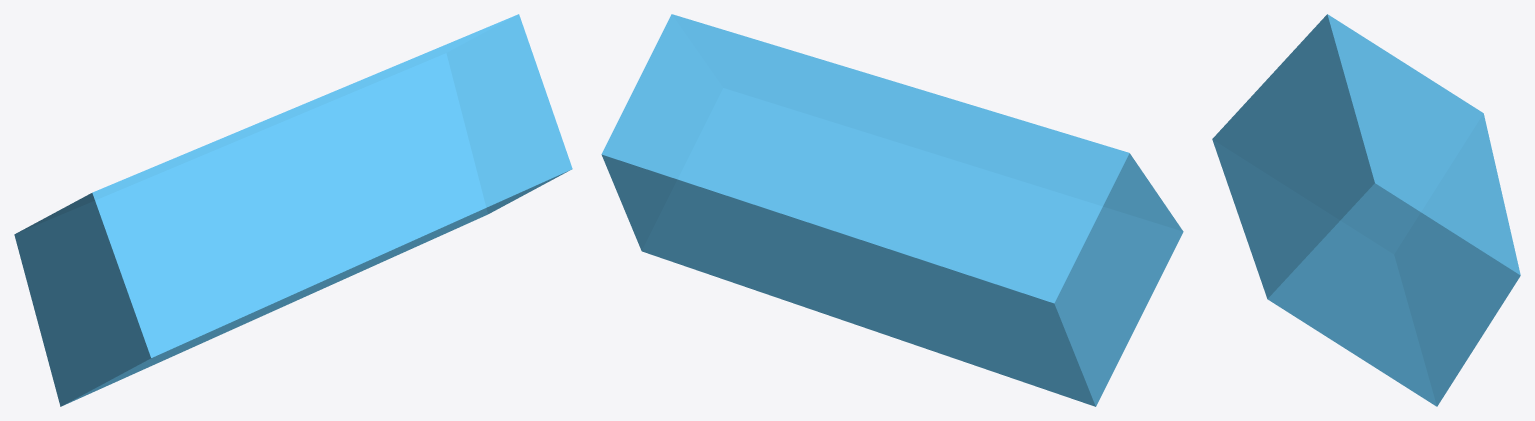
File: Event_420604493_HErechit_33.fbx
The picture shows the model from 3 angles, left to right: view 1: azimuth 30°, elevation 25°; view 2: azimuth 150°, elevation 25°; view 3: azimuth 270°, elevation 25°; orthographic projection. The views are drawn at different scales.
Visible parts, largest first — view 1: Model; view 2: Model; view 3: Model.
Boxes of the visible parts, <box> form: Model: <box>14,14,572,406</box>; Model: <box>601,14,1183,406</box>; Model: <box>1212,14,1520,406</box>.
Size of the model in its own units: 0.772 by 0.4755 by 0.4565.
